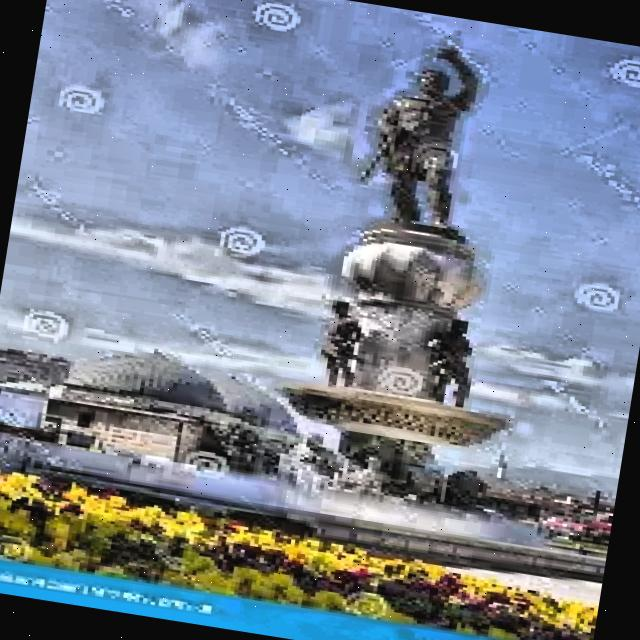Philip II of Macedonia: (262, 30, 574, 563)
